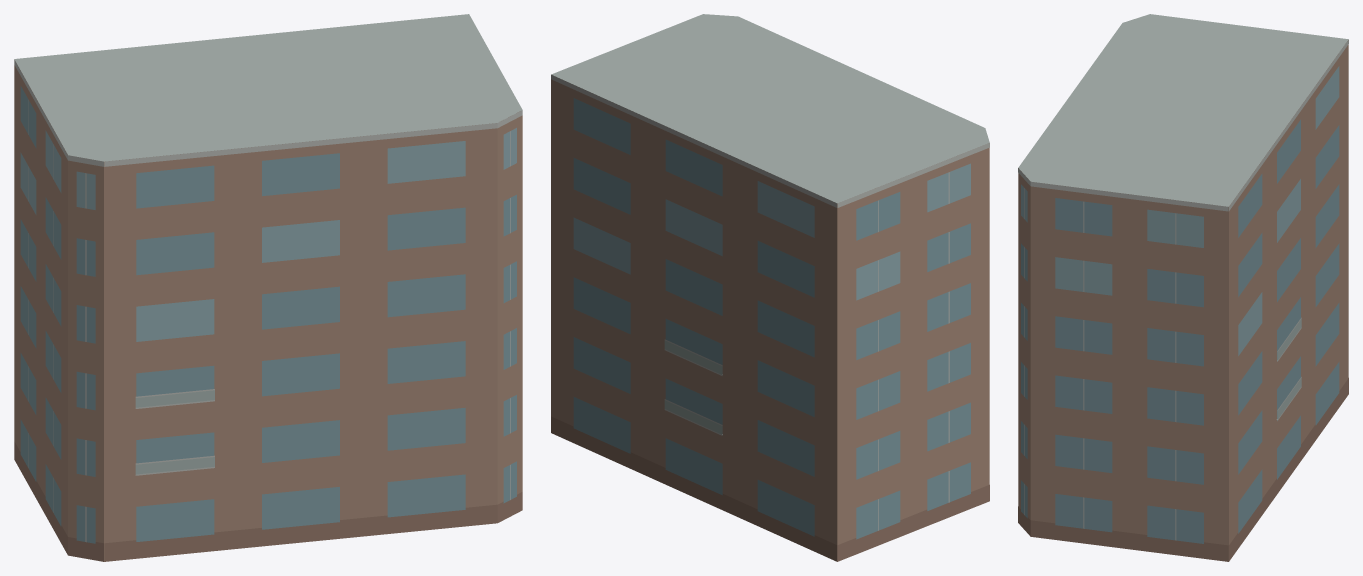
The model's file is survey-upis-32876701.glb.
3 renders of one model, left to right at view 1: azimuth 30°, elevation 25°; view 2: azimuth 150°, elevation 25°; view 3: azimuth 270°, elevation 25°, orthographic. The views are drawn at different scales.
Parts seen in each view (by area): view 1: survey-upis-32876701.tmp; view 2: survey-upis-32876701.tmp; view 3: survey-upis-32876701.tmp.
Boxes of the visible parts, x1,y1,x2,y2 form: survey-upis-32876701.tmp: (14,14,522,561); survey-upis-32876701.tmp: (551,14,989,561); survey-upis-32876701.tmp: (1018,14,1348,561).
Bounding box in the file's own units: 21.32 × 18.3 × 15.45.
